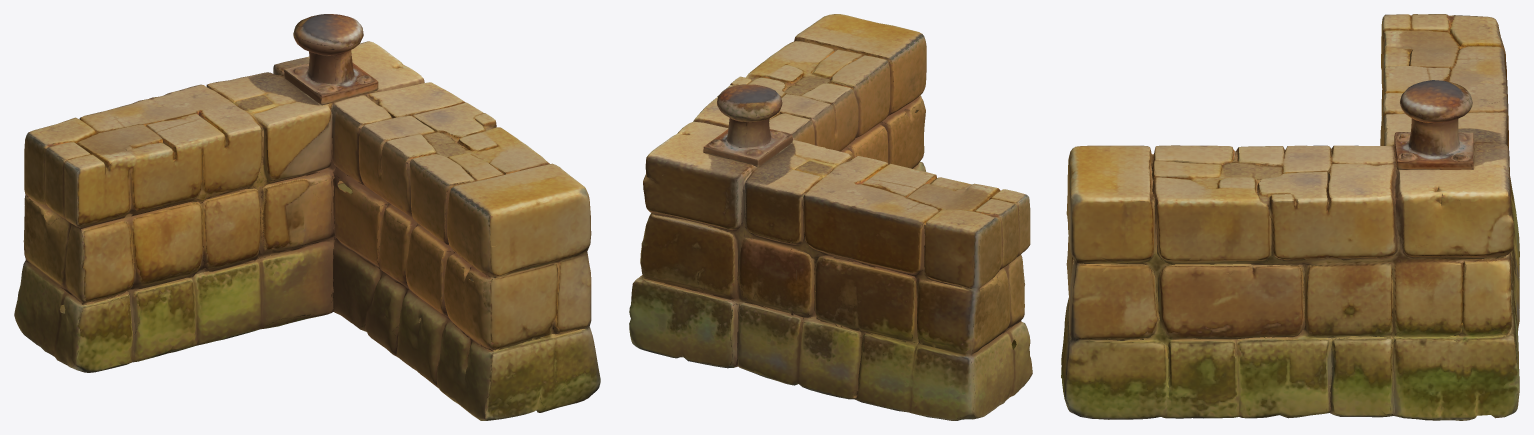
The model's file is hb_quay_corner.glb.
The picture shows the model from 3 angles, left to right: view 1: azimuth 30°, elevation 25°; view 2: azimuth 150°, elevation 25°; view 3: azimuth 270°, elevation 25°; orthographic projection. The views are drawn at different scales.
Visible parts, largest first — view 1: geometry_0; view 2: geometry_0; view 3: geometry_0.
Part boxes in pixels (x1,y1,x2,y2): geometry_0: (14, 14, 600, 420); geometry_0: (629, 14, 1032, 420); geometry_0: (1061, 14, 1519, 420).
Bounding box in the file's own units: 11.95 × 8.17 × 12.
Materials: 1 (1 with a texture image).
